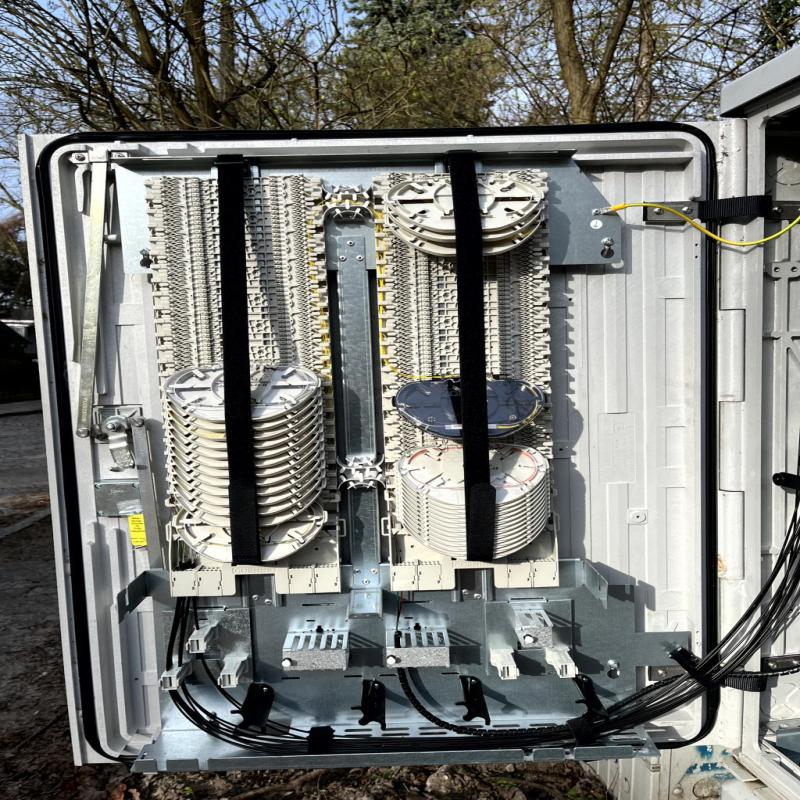NT-Gehause: (24, 46, 800, 800)
Spleiskassetten: (135, 170, 343, 648), (372, 170, 582, 604)
